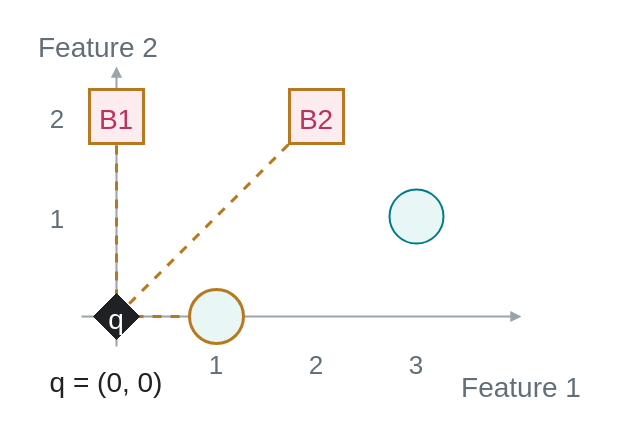
Some shapes in this 633 by 423 pixel diagram are drawn without their labels. The shapes that lost their labels are listed below. From the top down, each one's centre as x and y in pixels, then its label:
(416,216): A2
(216,316): A1
